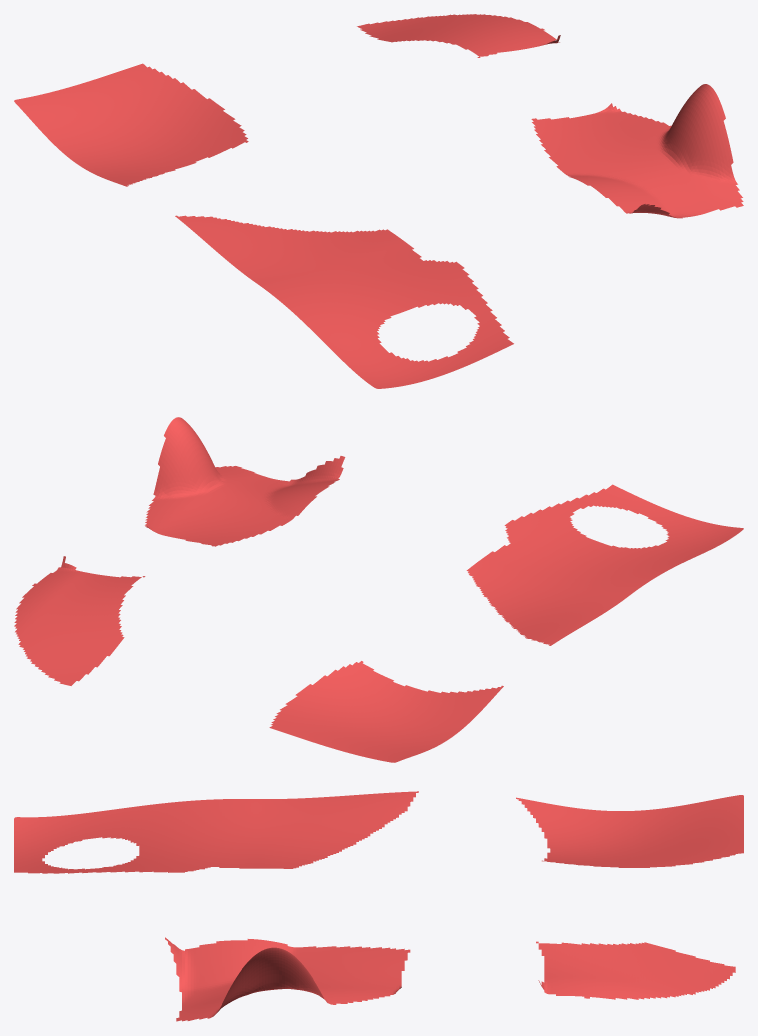
Rendered from terrain_red.dae.
The picture shows the model from 3 angles, top to bottom: view 1: azimuth 30°, elevation 25°; view 2: azimuth 150°, elevation 25°; view 3: azimuth 270°, elevation 25°; orthographic projection. The views are drawn at different scales.
Visible parts, largest first — view 1: terrain_red; view 2: terrain_red; view 3: terrain_red.
Part boxes in pixels (x1,y1,x2,y2): terrain_red: (14, 14, 743, 388); terrain_red: (14, 417, 743, 762); terrain_red: (14, 791, 743, 1021).
Bounding box in the file's own units: 36.7 × 49.97 × 7.55.
